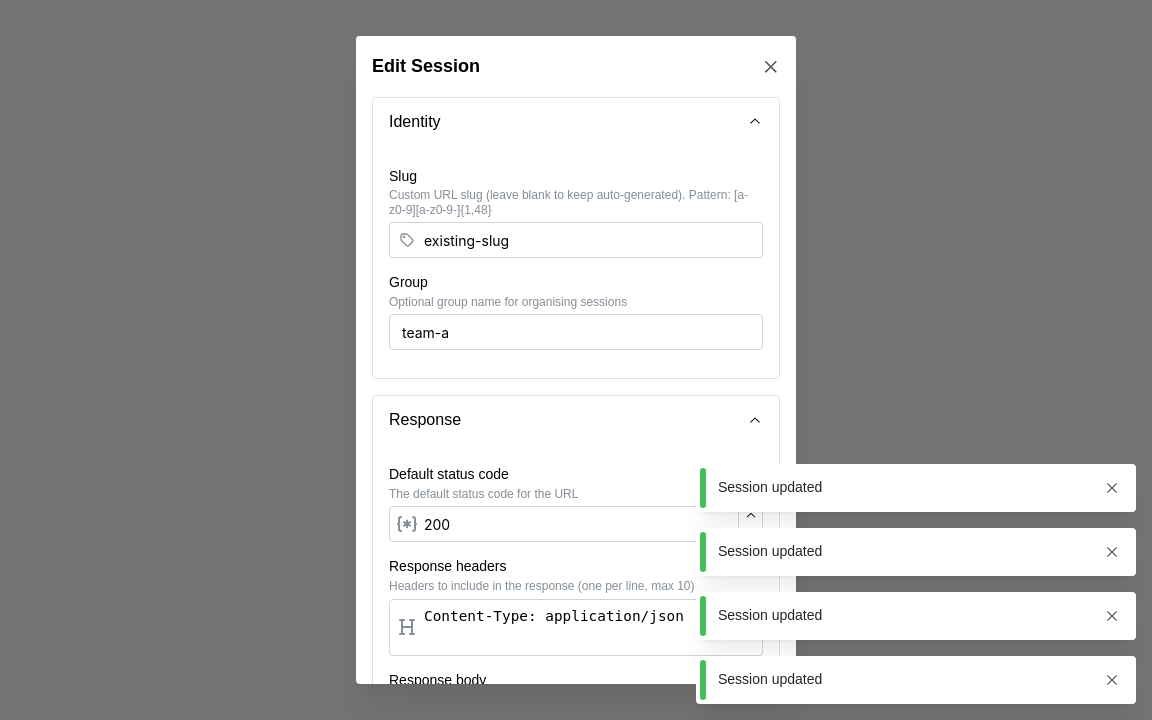
Test case: SessionEditor › invalid slug in editor disables Save button
This screenshot has width=1152, height=720.
Replace the text in the field labelled "Slug" with "INVALID_SLUG!". click: (576, 240)
box: [389, 222, 763, 258]
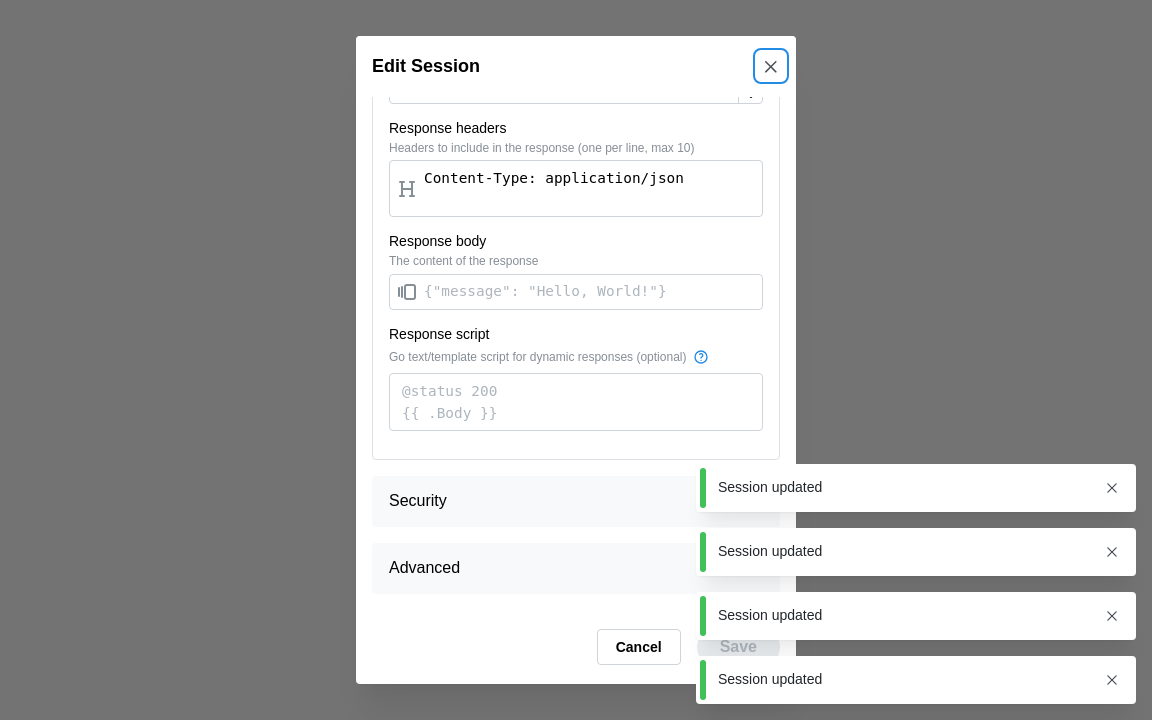
Now the button "Save" is disabled, box [697, 626, 780, 668]
